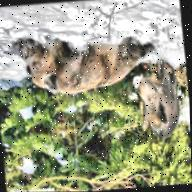boar: (14, 22, 160, 103), (129, 64, 191, 143)
